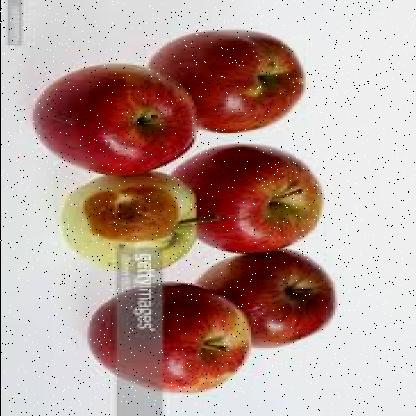apple: (31, 63, 195, 172), (152, 31, 302, 140), (100, 284, 241, 394), (186, 142, 322, 251), (200, 252, 334, 352)
damaged_apple: (59, 171, 207, 271)
